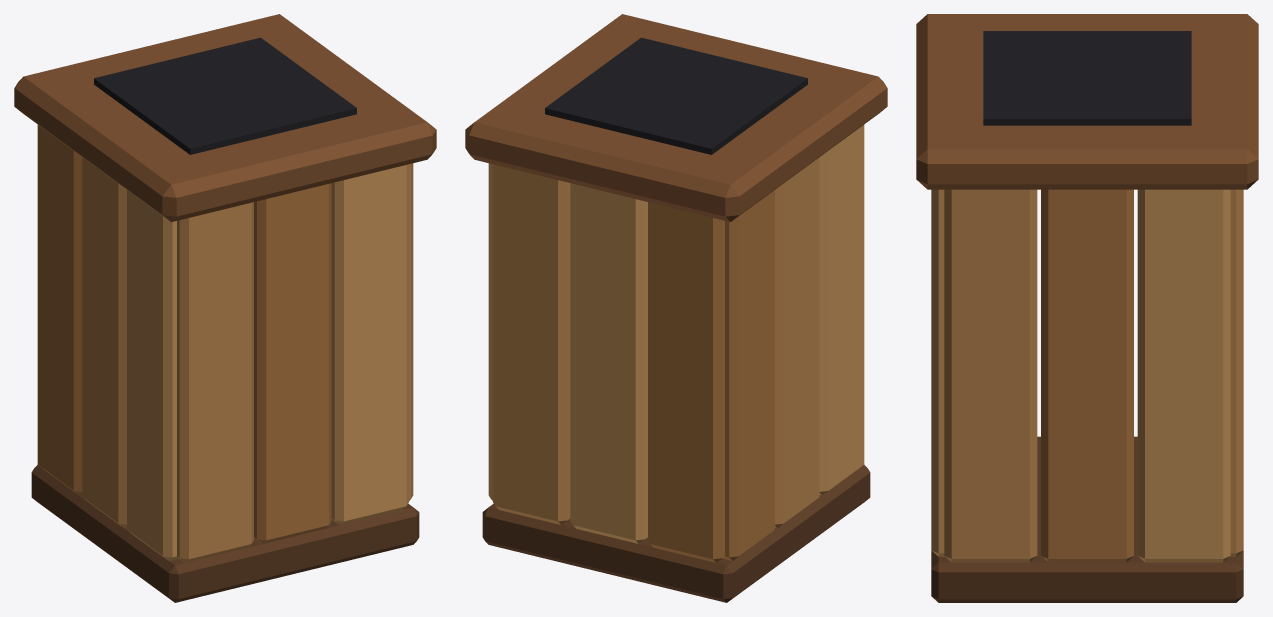
Rendered from lobby_bin.glb.
3 renders of one model, left to right at view 1: azimuth 30°, elevation 25°; view 2: azimuth 150°, elevation 25°; view 3: azimuth 270°, elevation 25°, orthographic. The views are drawn at different scales.
Visible parts, largest first — view 1: lobby_bin; view 2: lobby_bin; view 3: lobby_bin.
Boxes of the visible parts, left/top/right/bottom form: lobby_bin: left=14, top=14, right=436, bottom=602; lobby_bin: left=465, top=14, right=887, bottom=602; lobby_bin: left=916, top=14, right=1258, bottom=602.
Size of the model in its own units: 0.46 by 0.69 by 0.46.
